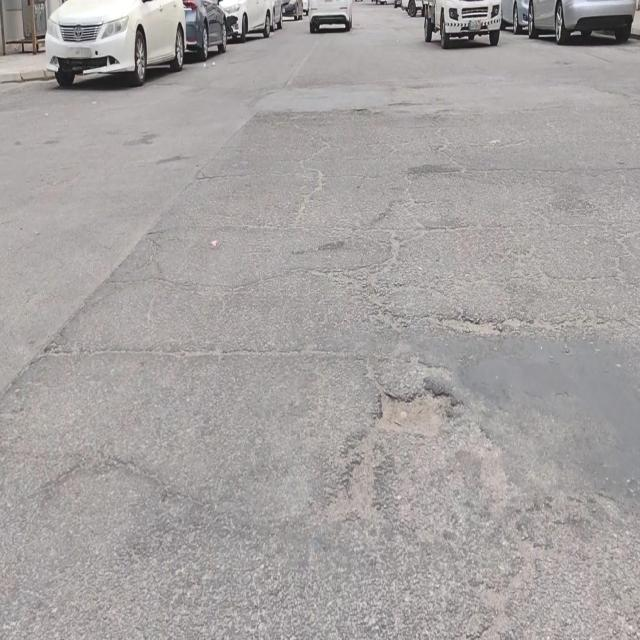Potholes: (372, 379, 461, 444)
